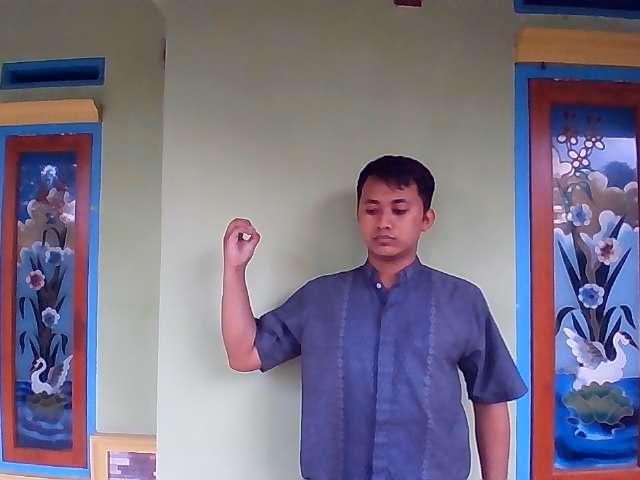O: (219, 215, 261, 266)
